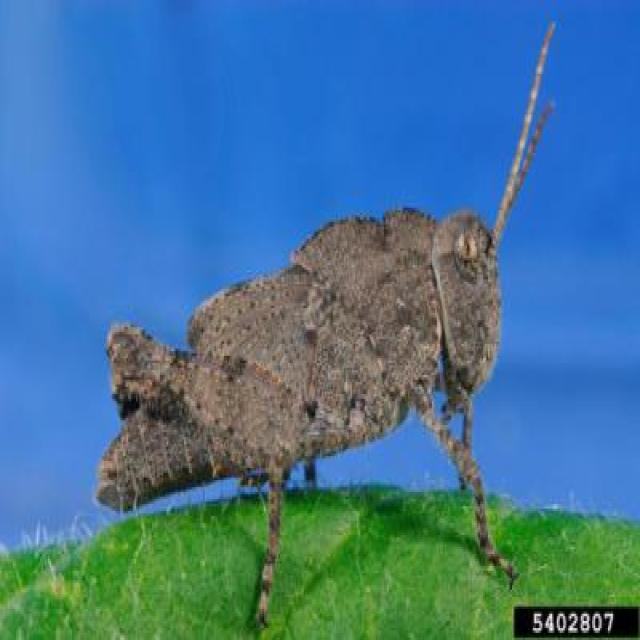antennae: (496, 24, 556, 237), (497, 104, 554, 231)
body: (93, 212, 498, 509)
insect: (91, 19, 560, 640)
legs: (99, 323, 313, 624), (415, 389, 515, 587), (443, 384, 474, 493), (306, 448, 318, 482)
mouthpart: (442, 361, 482, 432)
